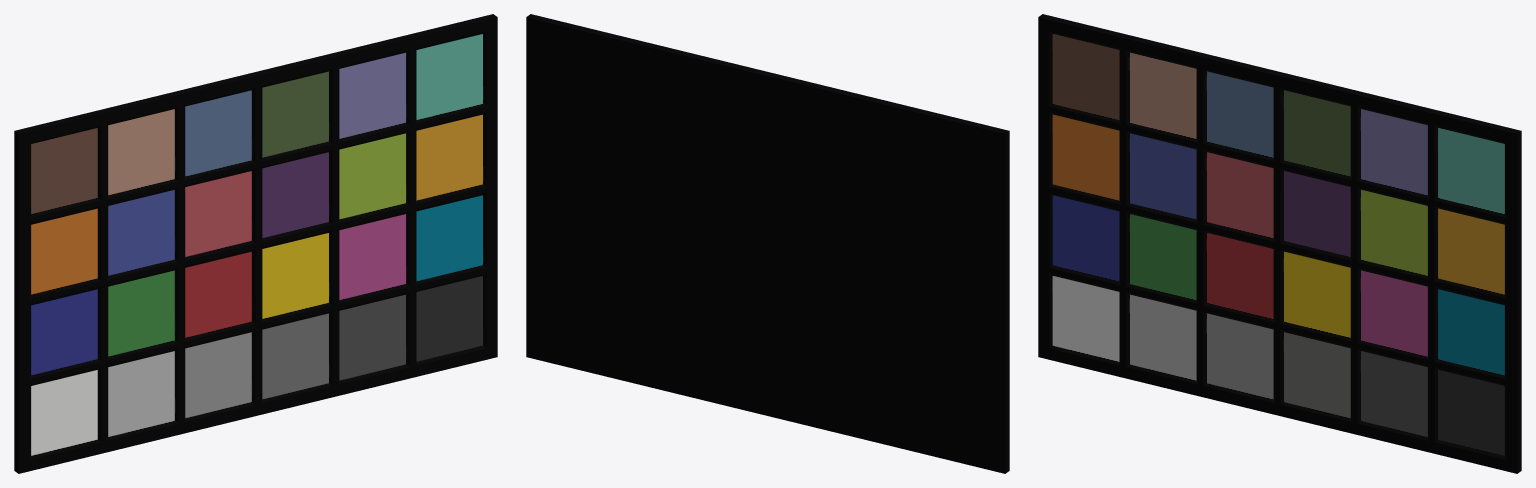
Rendered from color.glb.
The picture shows the model from 3 angles, left to right: view 1: azimuth 30°, elevation 25°; view 2: azimuth 150°, elevation 25°; view 3: azimuth 330°, elevation 25°; orthographic projection.
Visible parts, largest first — view 1: Palette; view 2: Palette; view 3: Palette.
Boxes of the visible parts, x1,y1,x2,y2 form: Palette: [14, 14, 497, 473]; Palette: [526, 14, 1009, 473]; Palette: [1038, 14, 1521, 473].
Size of what is drawn, in the model's own units: 0.634 by 0.43 by 0.00998.
1 material, 1 textured.
